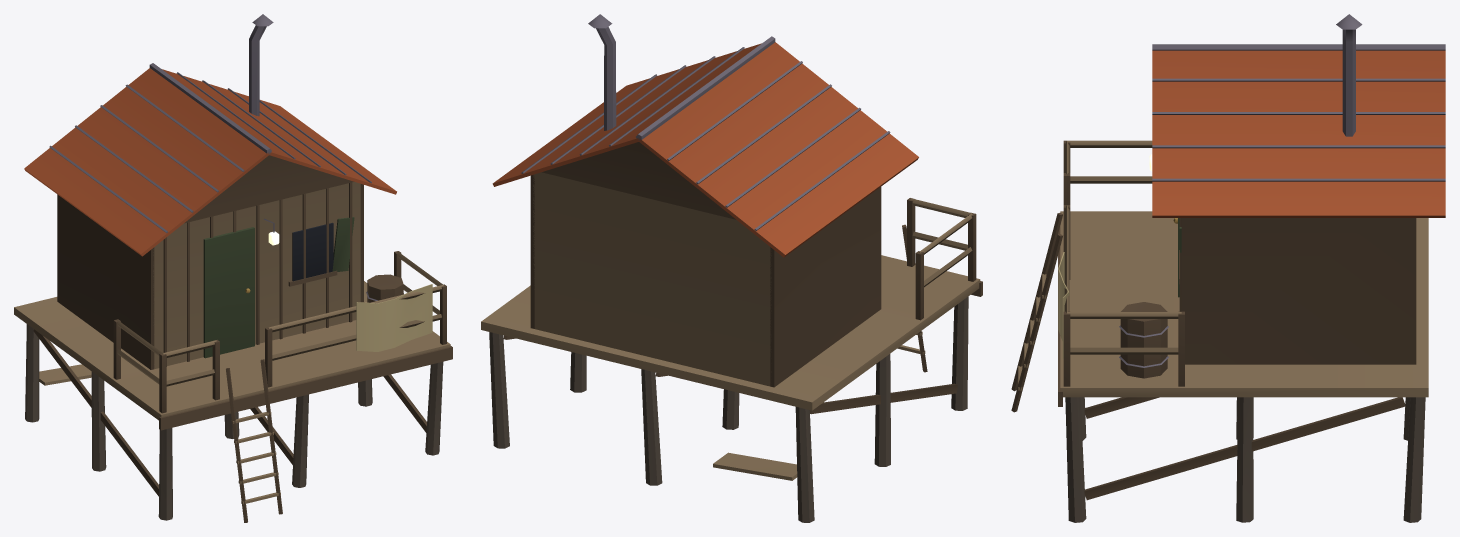
Rendered from env_stiltHouse_a.glb.
The picture shows the model from 3 angles, left to right: view 1: azimuth 30°, elevation 25°; view 2: azimuth 150°, elevation 25°; view 3: azimuth 270°, elevation 25°; orthographic projection. The views are drawn at different scales.
Visible parts, largest first — view 1: env_stiltHouse_a; view 2: env_stiltHouse_a; view 3: env_stiltHouse_a.
Part boxes in pixels (left/top/right/bottom): env_stiltHouse_a: left=14, top=14, right=452, bottom=522; env_stiltHouse_a: left=481, top=14, right=982, bottom=522; env_stiltHouse_a: left=1011, top=14, right=1445, bottom=522.
Bounding box in the file's own units: 5.04 × 6.17 × 5.18.
